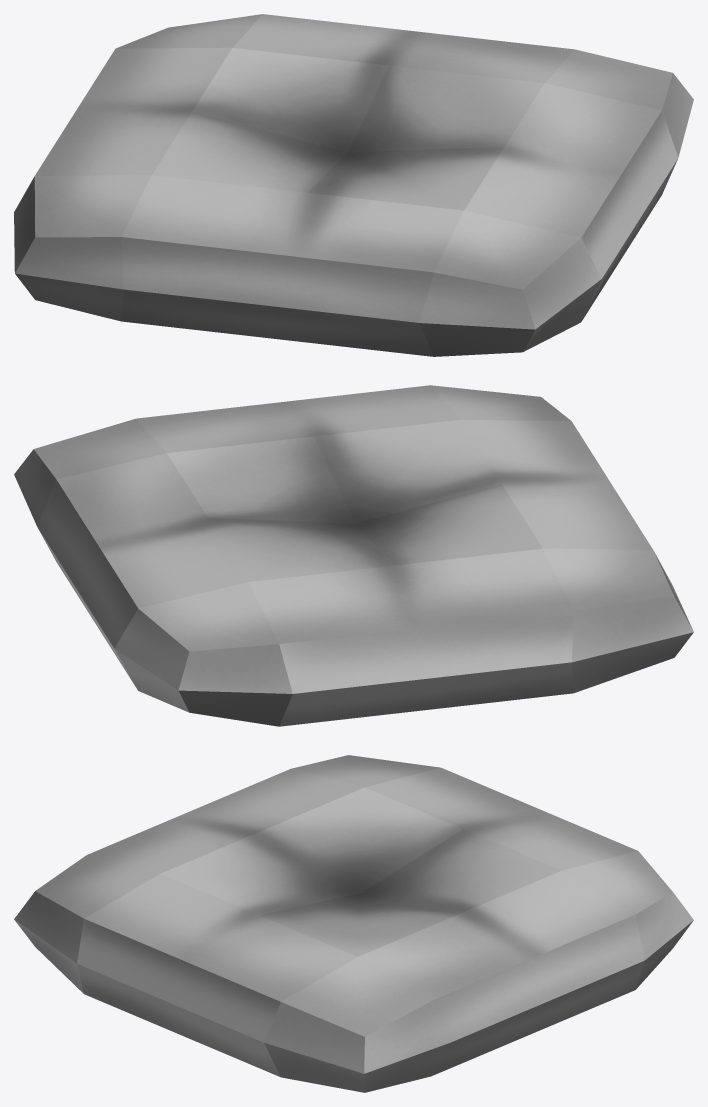
File: Pillow45.fbx
3 renders of one model, top to bottom at view 1: azimuth 30°, elevation 25°; view 2: azimuth 150°, elevation 25°; view 3: azimuth 270°, elevation 25°, orthographic. The views are drawn at different scales.
Visible parts, largest first — view 1: Pillow; view 2: Pillow; view 3: Pillow.
Boxes of the visible parts, left/top/right/bottom form: Pillow: left=14, top=14, right=693, bottom=356; Pillow: left=14, top=385, right=693, bottom=726; Pillow: left=14, top=755, right=693, bottom=1092.
Size of the model in its own units: 7.02 by 1.1 by 6.73.
Materials: 1 (1 with a texture image).
